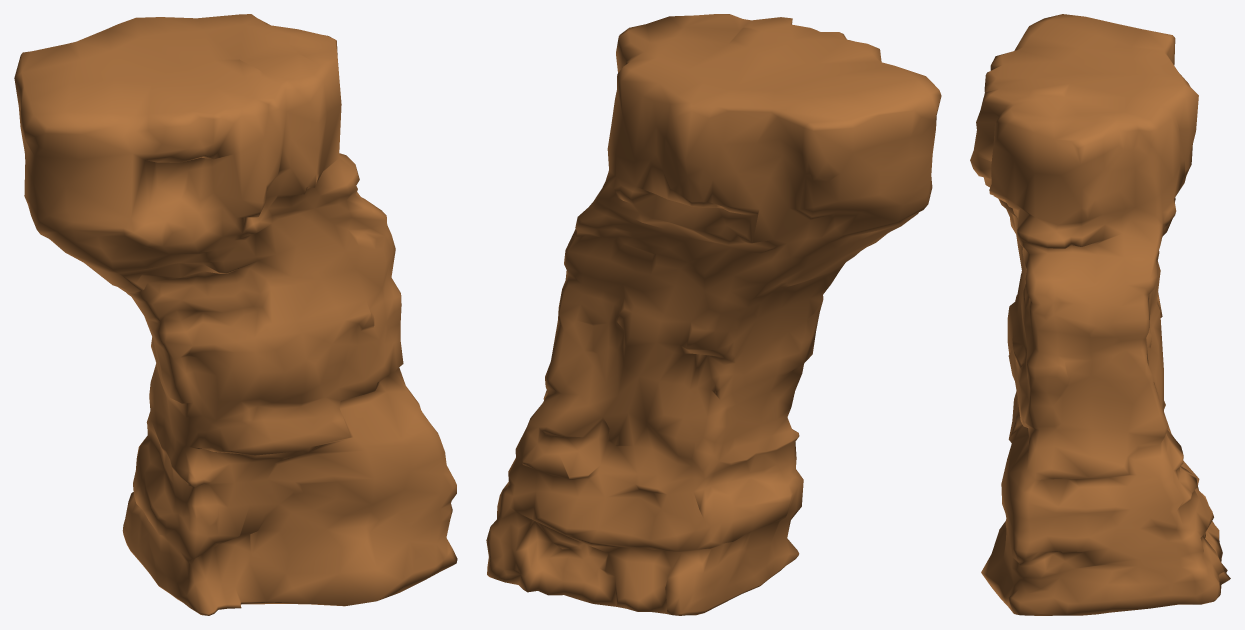
The model's file is MSH_Rocks_Cliff_15_a.FBX.
The picture shows the model from 3 angles, left to right: view 1: azimuth 30°, elevation 25°; view 2: azimuth 150°, elevation 25°; view 3: azimuth 270°, elevation 25°; orthographic projection. The views are drawn at different scales.
Parts seen in each view (by area): view 1: MESH_LOD0; view 2: MESH_LOD0; view 3: MESH_LOD0.
Part boxes in pixels (x1,y1,x2,y2): MESH_LOD0: (14, 14, 457, 615); MESH_LOD0: (486, 14, 941, 615); MESH_LOD0: (970, 14, 1230, 615).
Size of what is drawn, in the model's own units: 386 by 484 by 254.
